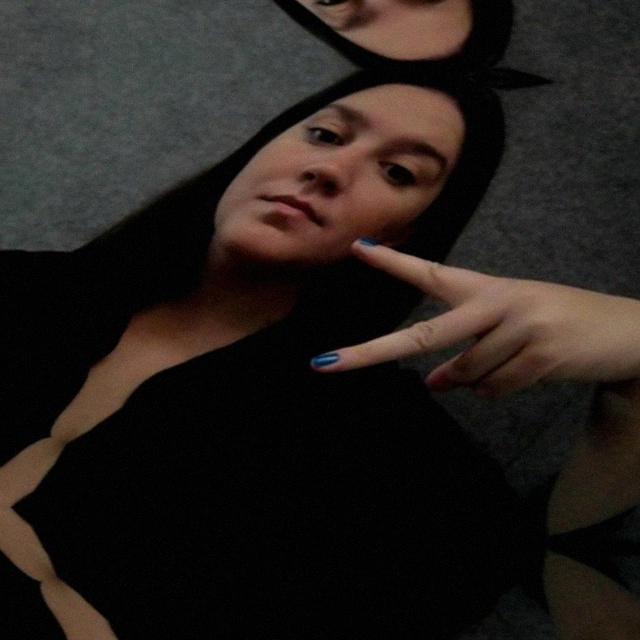Scissors: (227, 179, 640, 464)
